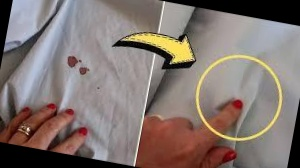blood: (65, 55, 90, 76)
